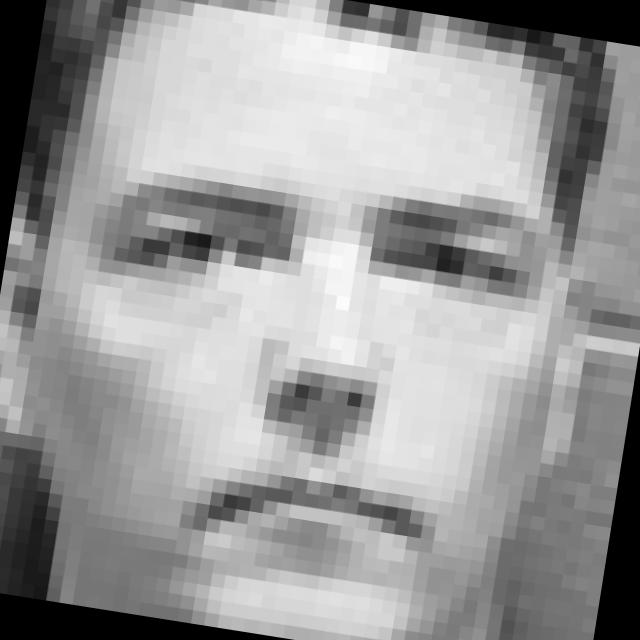neutral: (42, 133, 563, 602)
